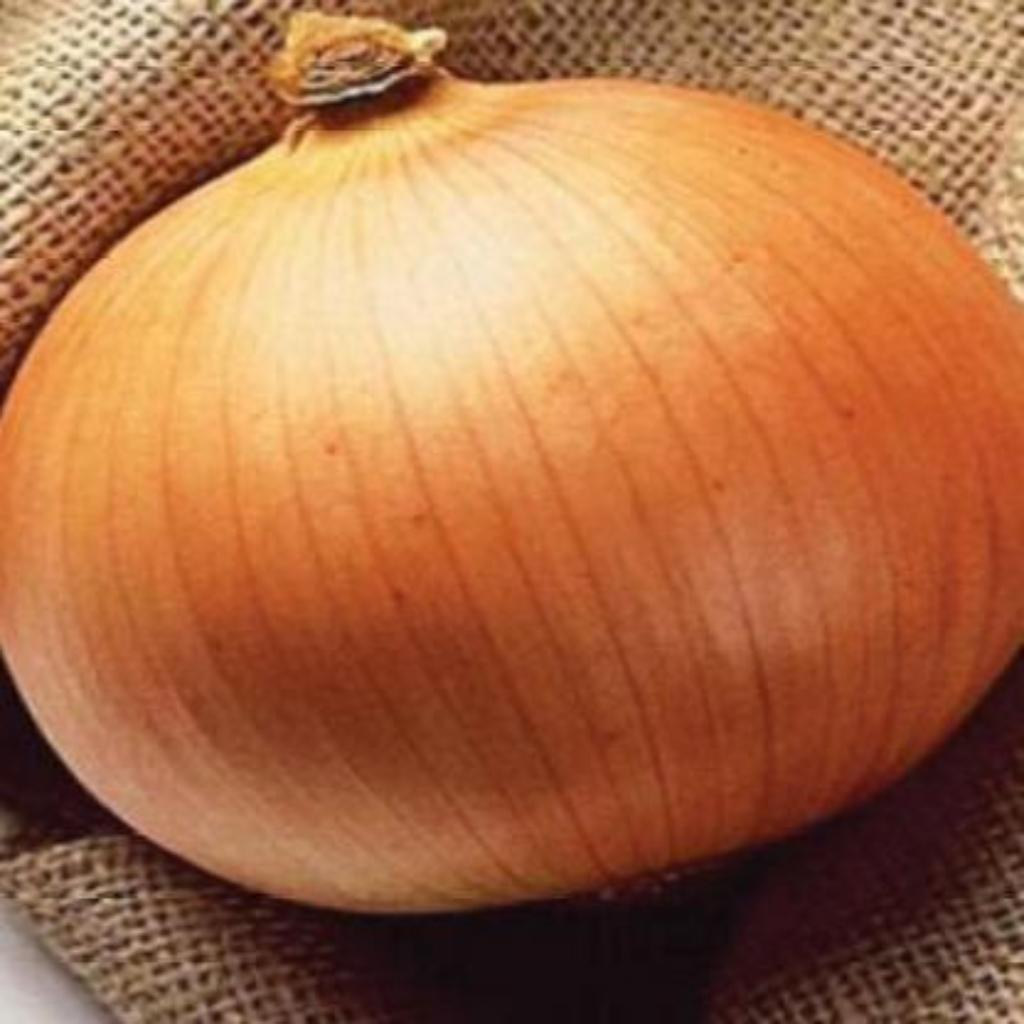Onion: (0, 12, 1024, 913)
